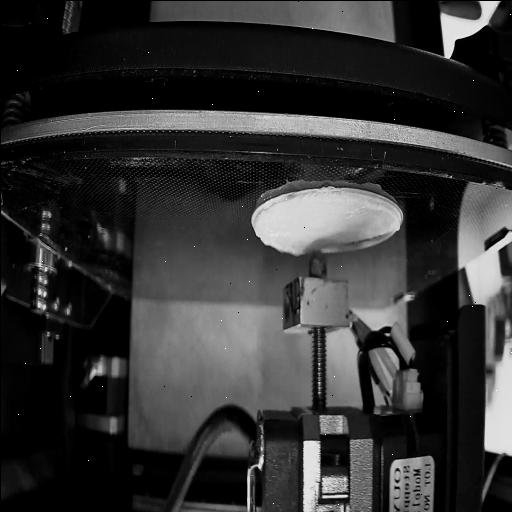over_extrusion: (250, 210, 304, 260), (364, 200, 402, 229)
